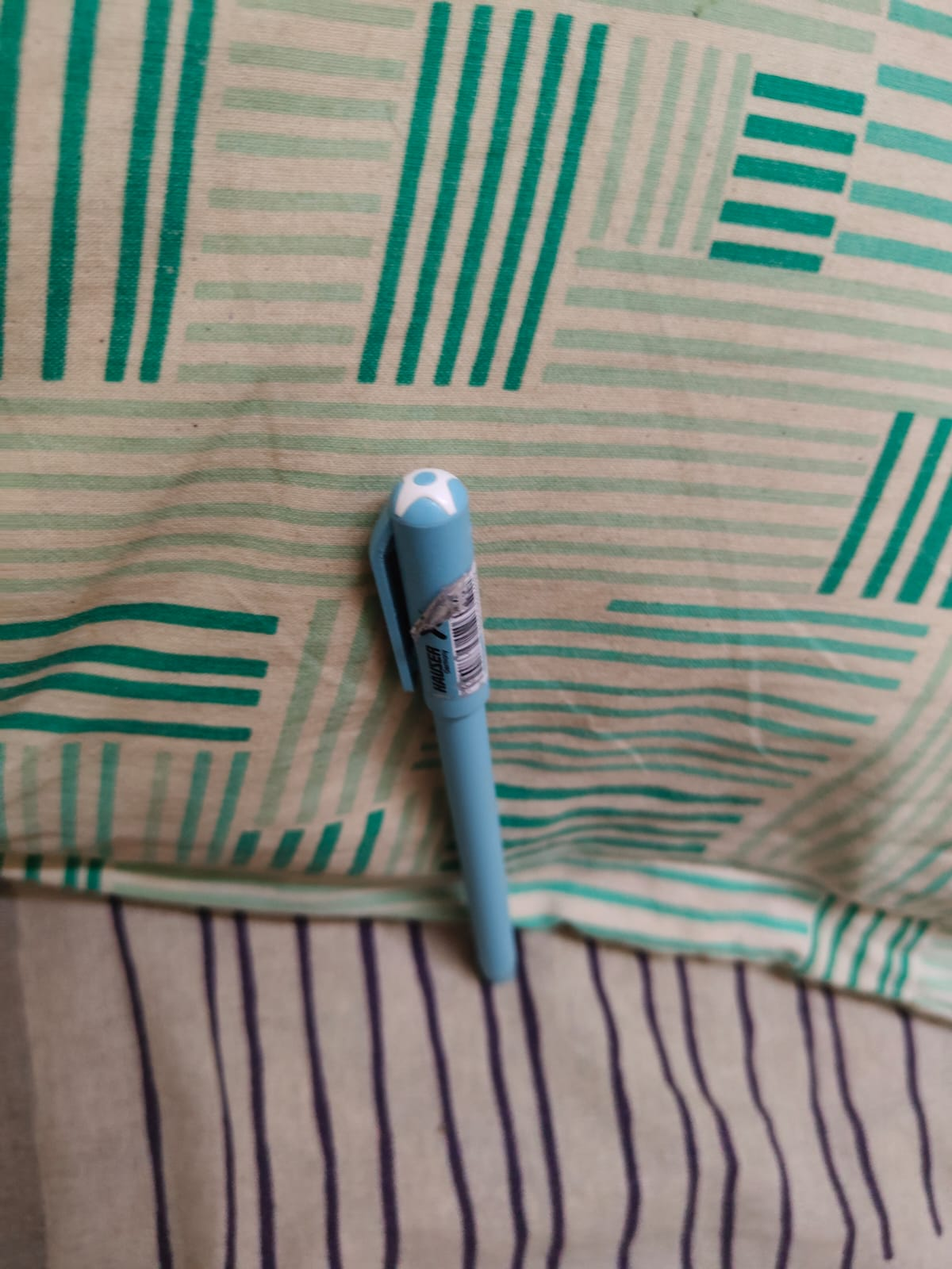pen: (361, 444, 563, 987)
